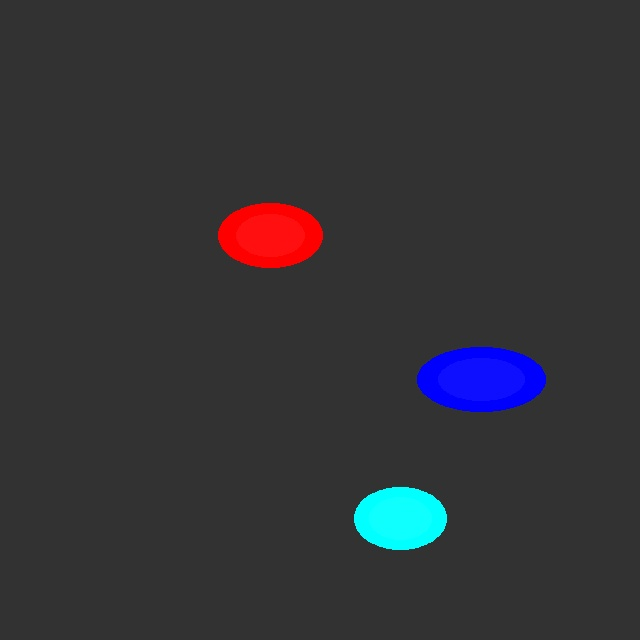fish: (417, 347, 546, 411), (218, 203, 322, 268), (353, 487, 447, 549)
